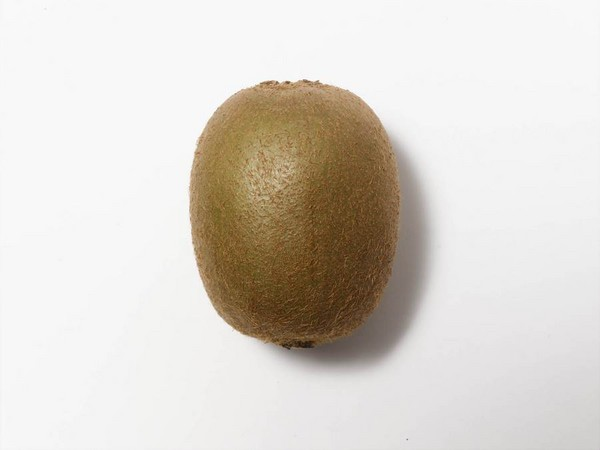kiwi: (188, 79, 401, 346)
